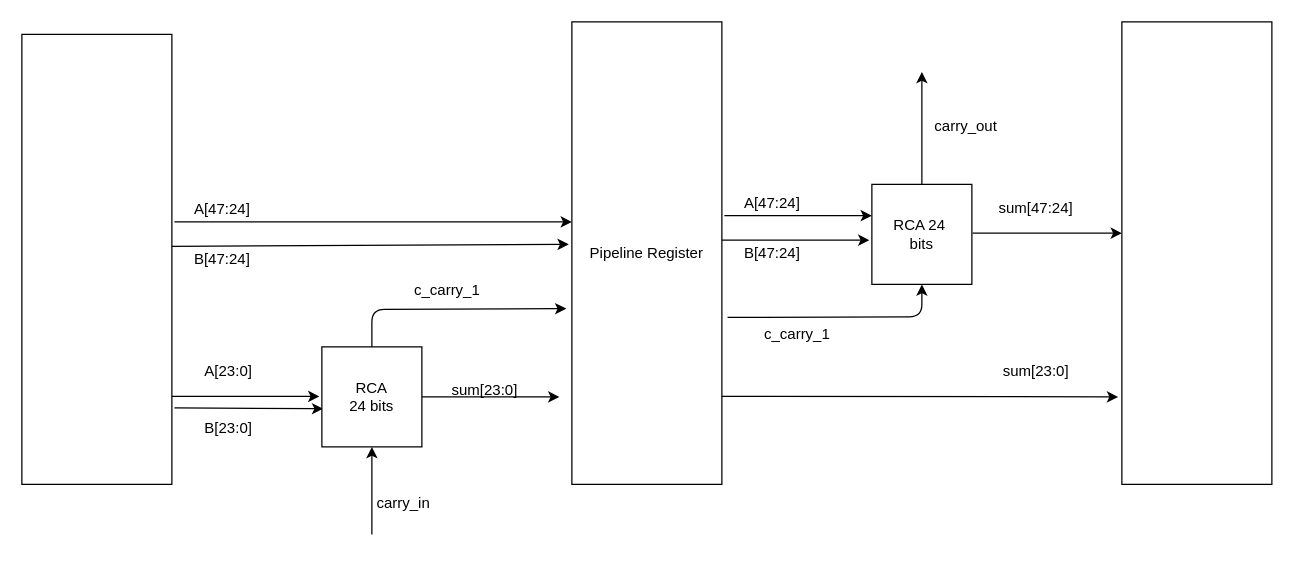
Image size: 1294x566. Some labels were removed from this diagram. The shapes that lost their labels are listed below. From the top down, each one's box as (x1, y1, x2, y2) in pixels, then its label:
(21, 33, 172, 484): RAM A, B
(1121, 21, 1272, 484): RAM C
